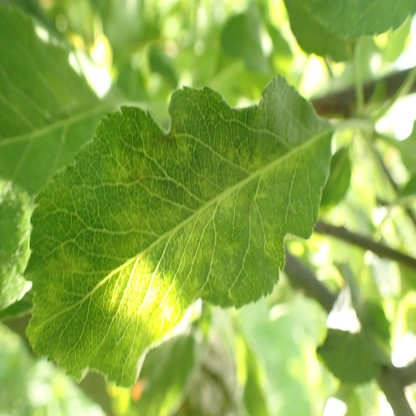scab: (26, 113, 303, 344)
